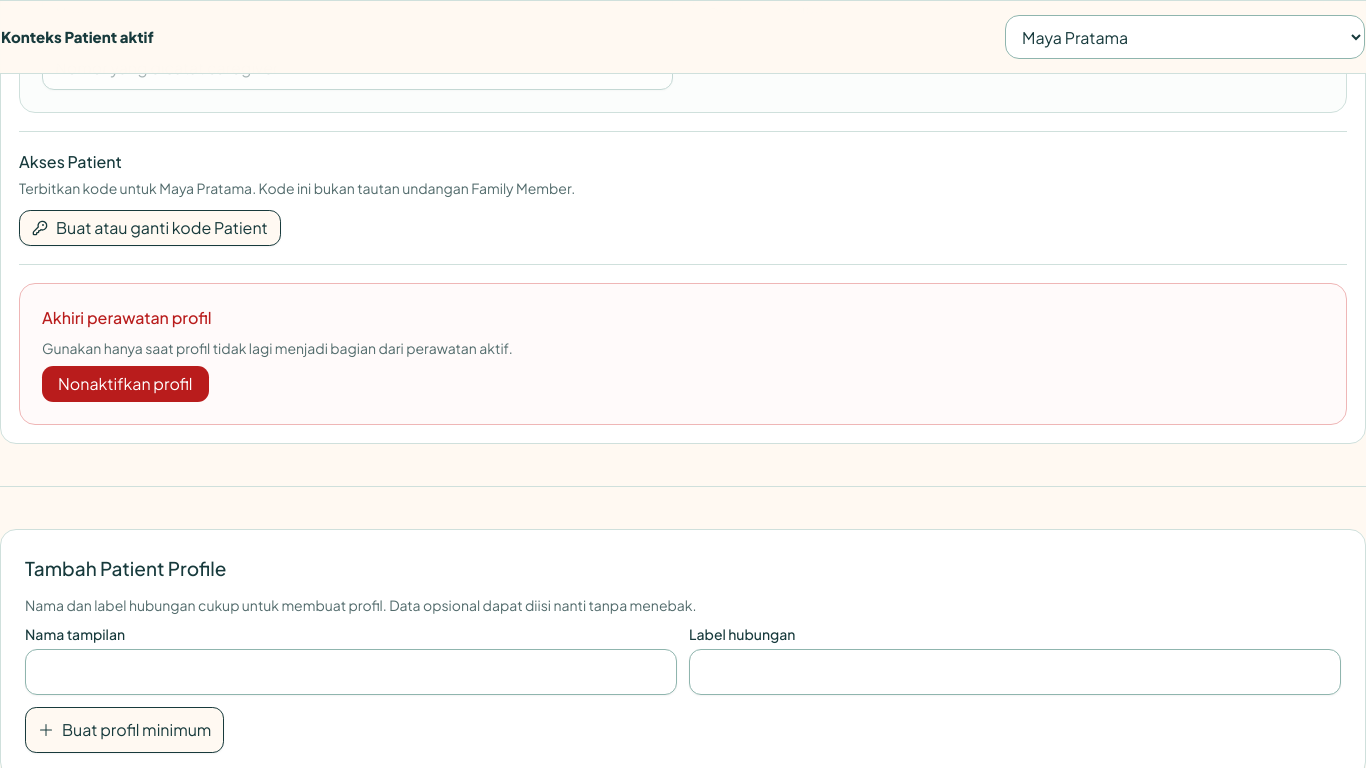
caregiver Patient Profile lifecycle UI › moves focus to the retryable error without closing the dialog
(page scrolled)
Click the button "Nonaktifkan profil". click: (125, 384)
box: [42,366,208,402]
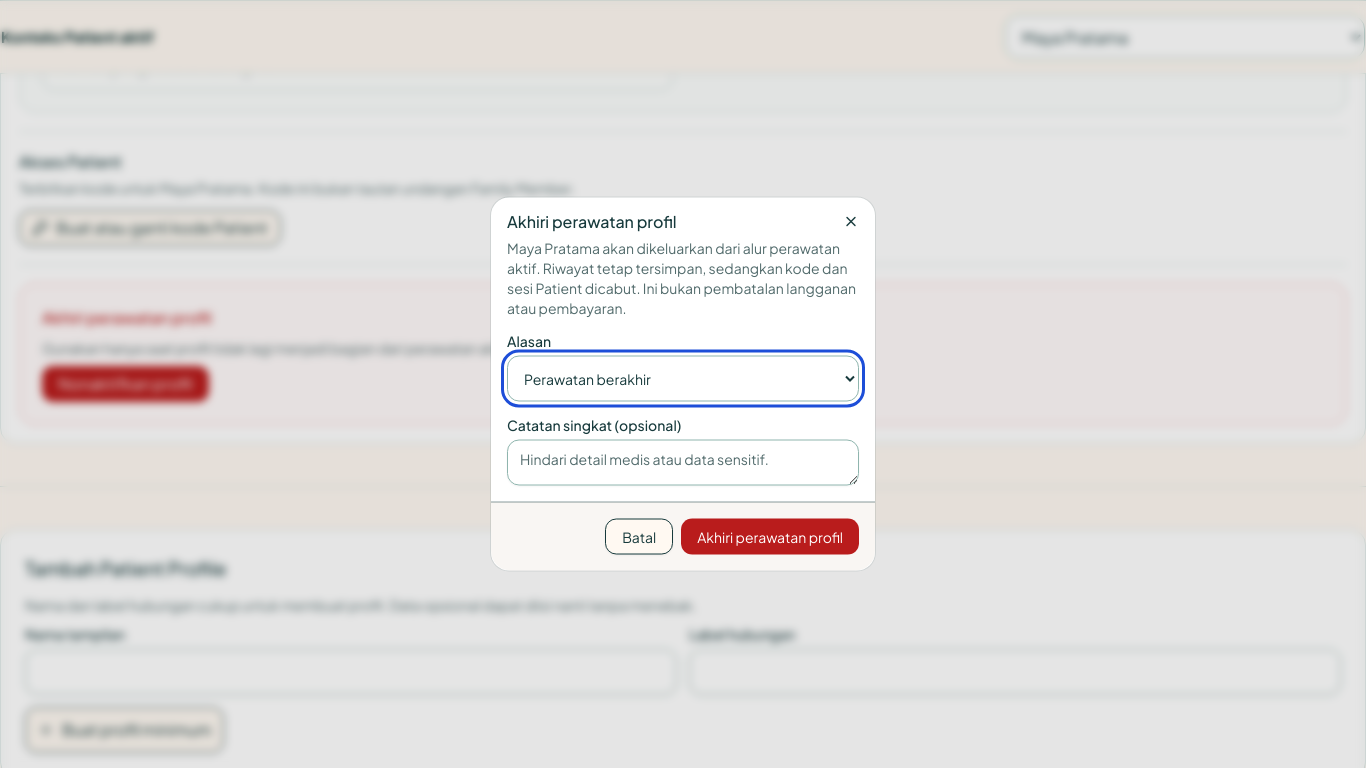
Click the button "Akhiri perawatan profil". click: (770, 536)
box: [681,518,859,554]
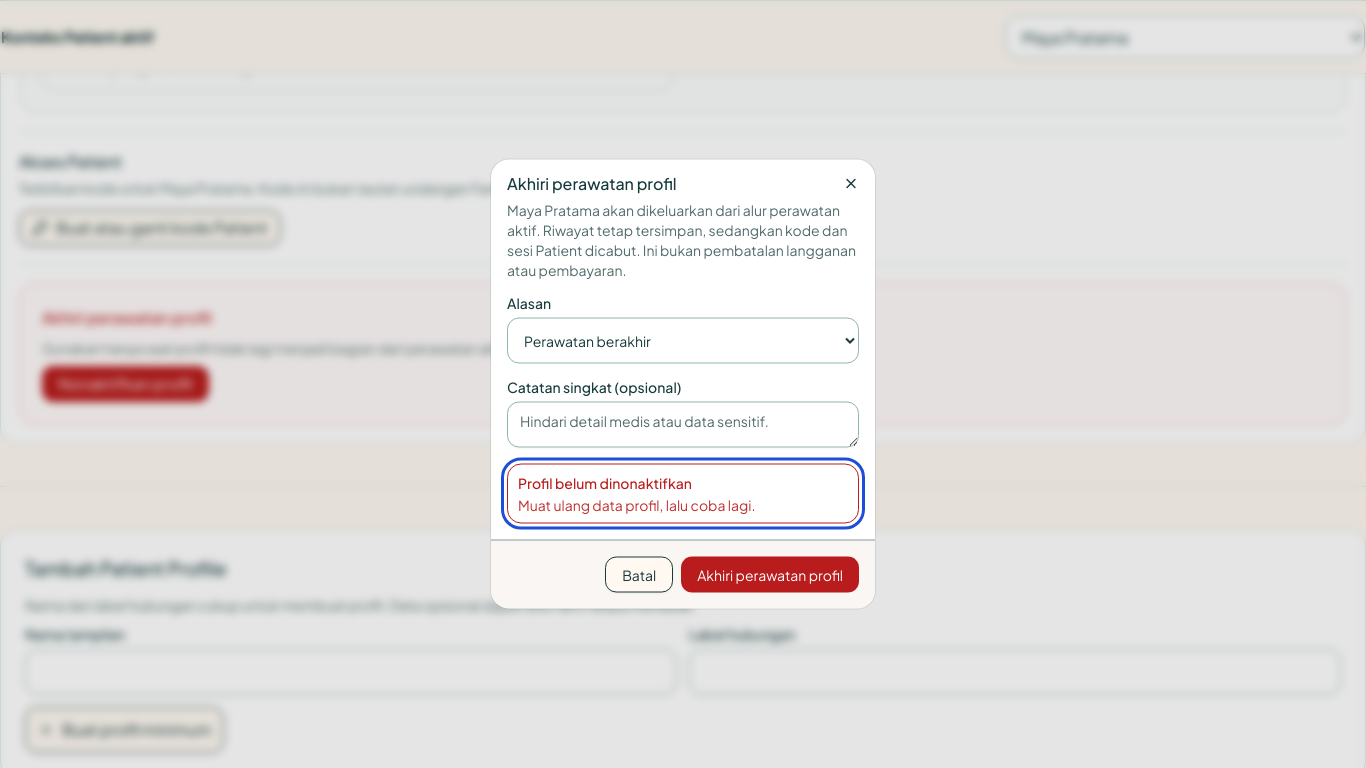
Now the dialog is shown, box [491,160,875,608]
Now the button "Akhiri perawatan profil" is enabled, box [681,556,859,592]
Now the text "Profil belum dinonaktifkan" is shown, box [518,474,692,492]
